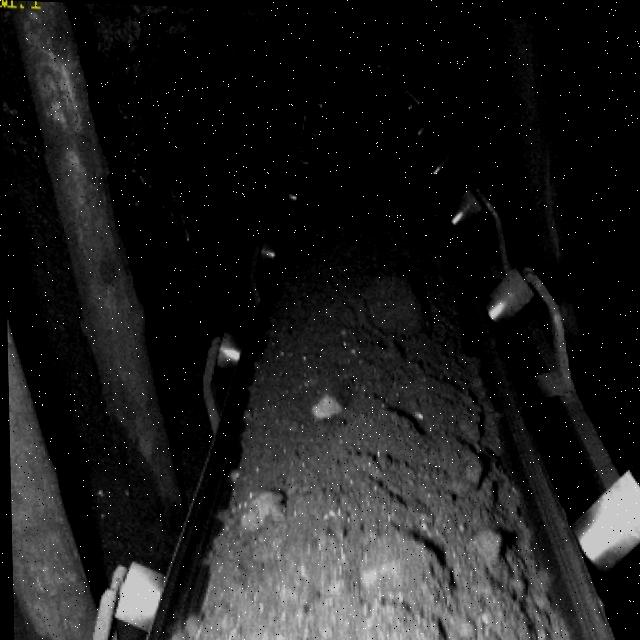large_sized_coal: (353, 529, 444, 597), (362, 273, 429, 334), (231, 488, 280, 530)
